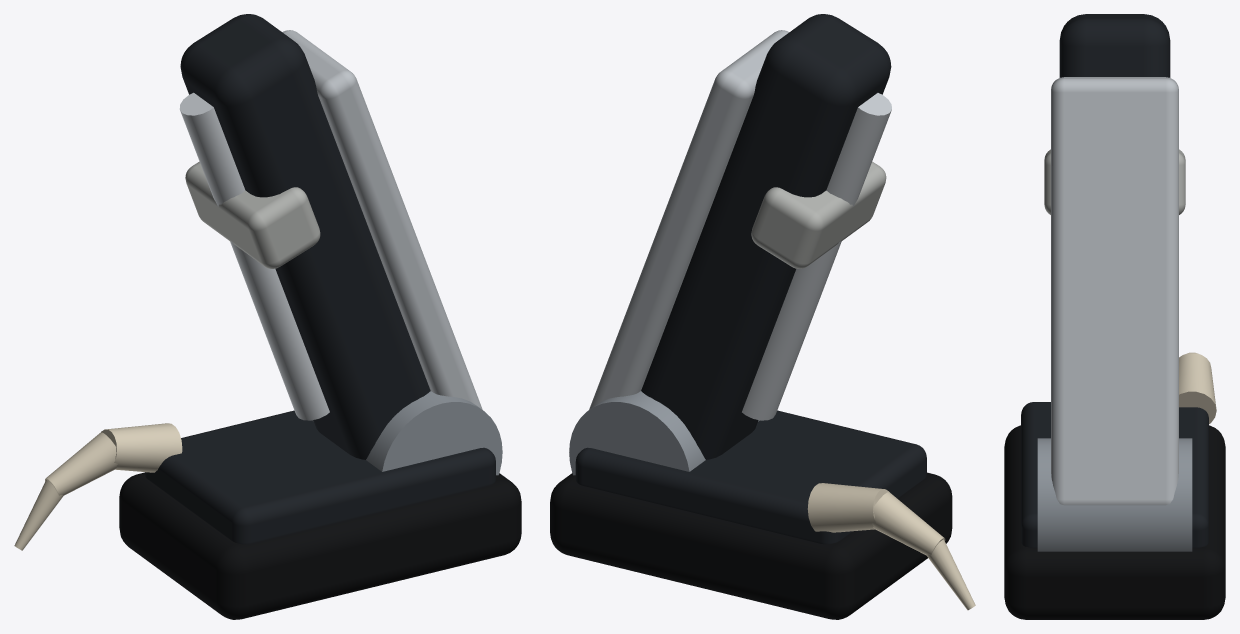
Rendered from left_foot_link.glb.
3 renders of one model, left to right at view 1: azimuth 30°, elevation 25°; view 2: azimuth 150°, elevation 25°; view 3: azimuth 270°, elevation 25°, orthographic. The views are drawn at different scales.
Parts seen in each view (by area): view 1: left_foot_link; view 2: left_foot_link; view 3: left_foot_link.
Part boxes in pixels (<box>): left_foot_link: <box>14,14,521,619</box>; left_foot_link: <box>550,14,975,619</box>; left_foot_link: <box>1004,14,1225,619</box>.
Bounding box in the file's own units: 0.2061 × 0.2548 × 0.1.
